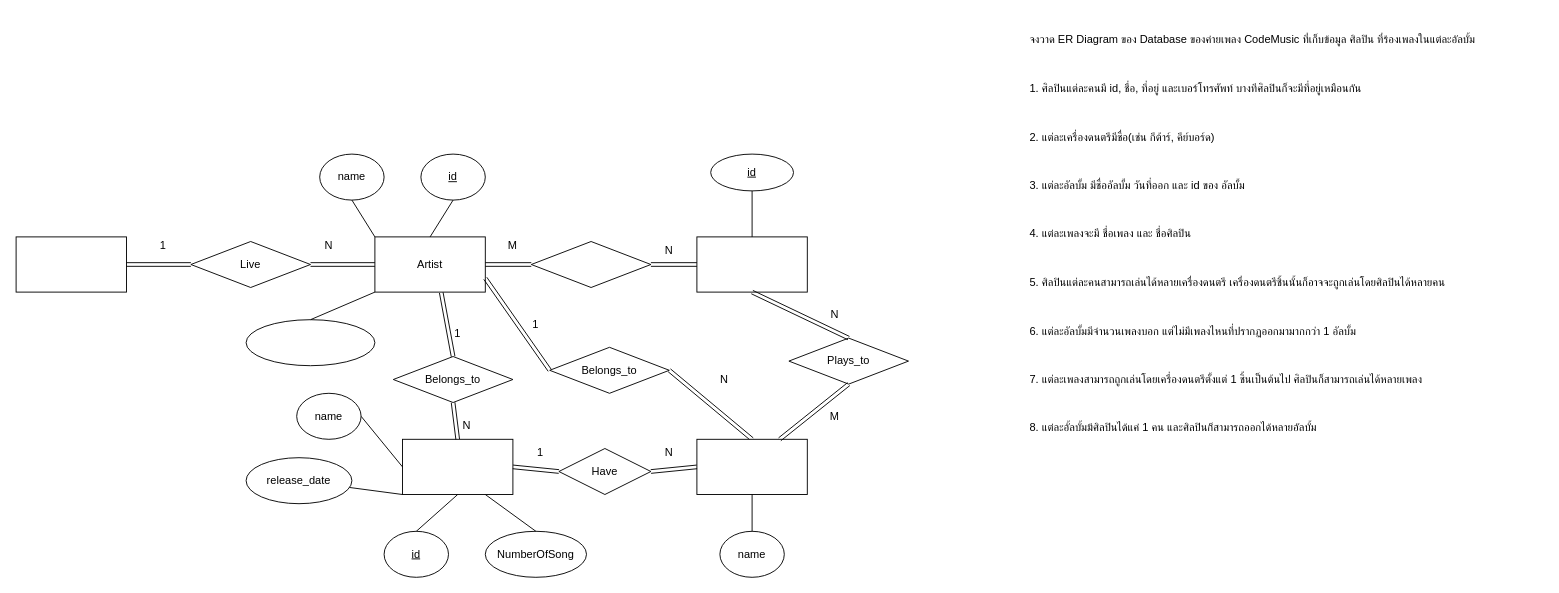
Image size: 1559x593. Some labels were removed from this diagram. The shapes that lost their labels are listed below. From the top down, each one's centre as x and y in pixels, then its label:
point 70,264: Address
point 590,264: Plays_with
point 751,264: Instrument
point 310,342: phoneNumber
point 457,466: Album
point 751,466: Song
